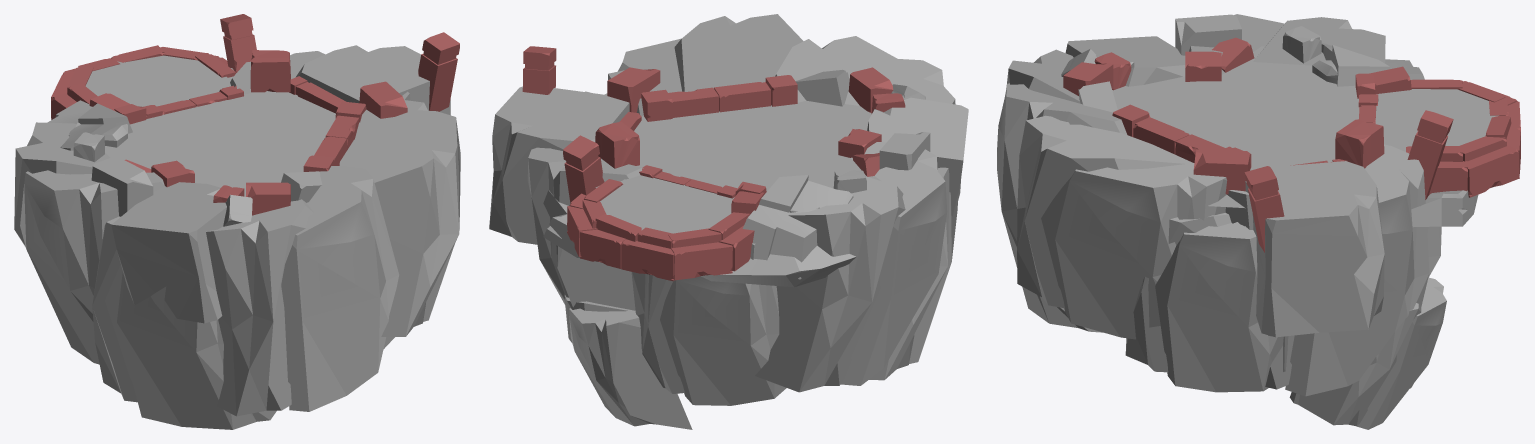
File: SM_Spawn_Island_02.fbx
The picture shows the model from 3 angles, left to right: view 1: azimuth 30°, elevation 25°; view 2: azimuth 150°, elevation 25°; view 3: azimuth 270°, elevation 25°; orthographic projection. The views are drawn at different scales.
Visible parts, largest first — view 1: SM_Spawn_Island_02; view 2: SM_Spawn_Island_02; view 3: SM_Spawn_Island_02.
Part boxes in pixels (x1,y1,x2,y2): SM_Spawn_Island_02: [14, 14, 460, 429]; SM_Spawn_Island_02: [489, 14, 968, 429]; SM_Spawn_Island_02: [997, 14, 1520, 429].
Size of what is drawn, in the model's own units: 694 by 495 by 712.
